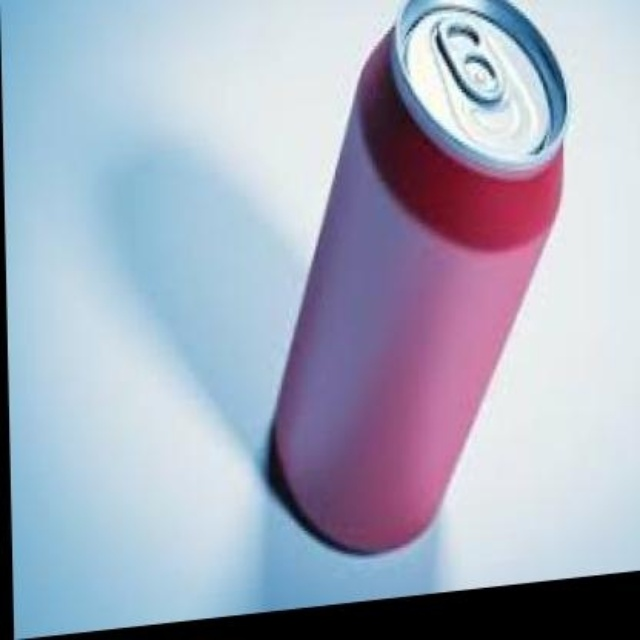trash: (269, 0, 565, 551)
